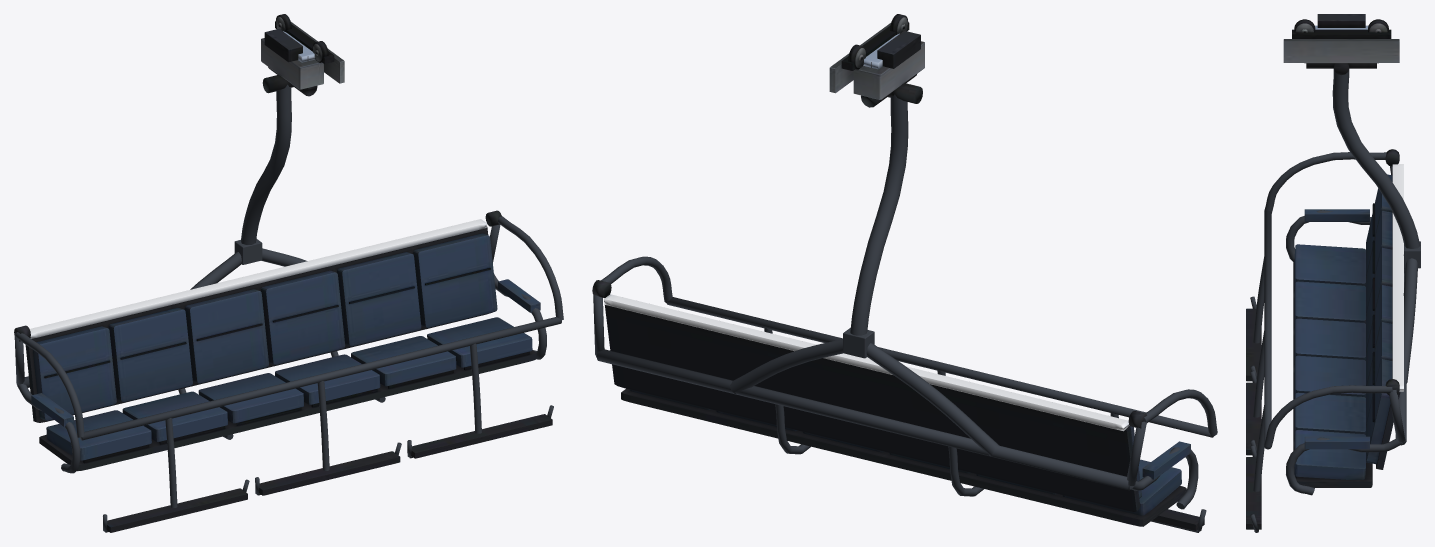
Rendered from chair6.glb.
The picture shows the model from 3 angles, left to right: view 1: azimuth 30°, elevation 25°; view 2: azimuth 150°, elevation 25°; view 3: azimuth 270°, elevation 25°; orthographic projection. The views are drawn at different scales.
Parts seen in each view (by area): view 1: chair6, chair6_paint, chair6_snow; view 2: chair6, chair6_paint, chair6_snow; view 3: chair6, chair6_paint, chair6_snow.
Part boxes in pixels (x1,y1,x2,y2): chair6: (14, 14, 552, 532); chair6_paint: (14, 84, 563, 532); chair6_snow: (29, 31, 486, 338); chair6: (592, 14, 1204, 530); chair6_paint: (593, 94, 1217, 532); chair6_snow: (604, 33, 1129, 431); chair6: (1246, 14, 1400, 529); chair6_paint: (1250, 69, 1420, 532); chair6_snow: (1315, 25, 1403, 391).
Bounding box in the file's own units: 3.96 × 3.22 × 1.24.
3 materials, 1 textured.
